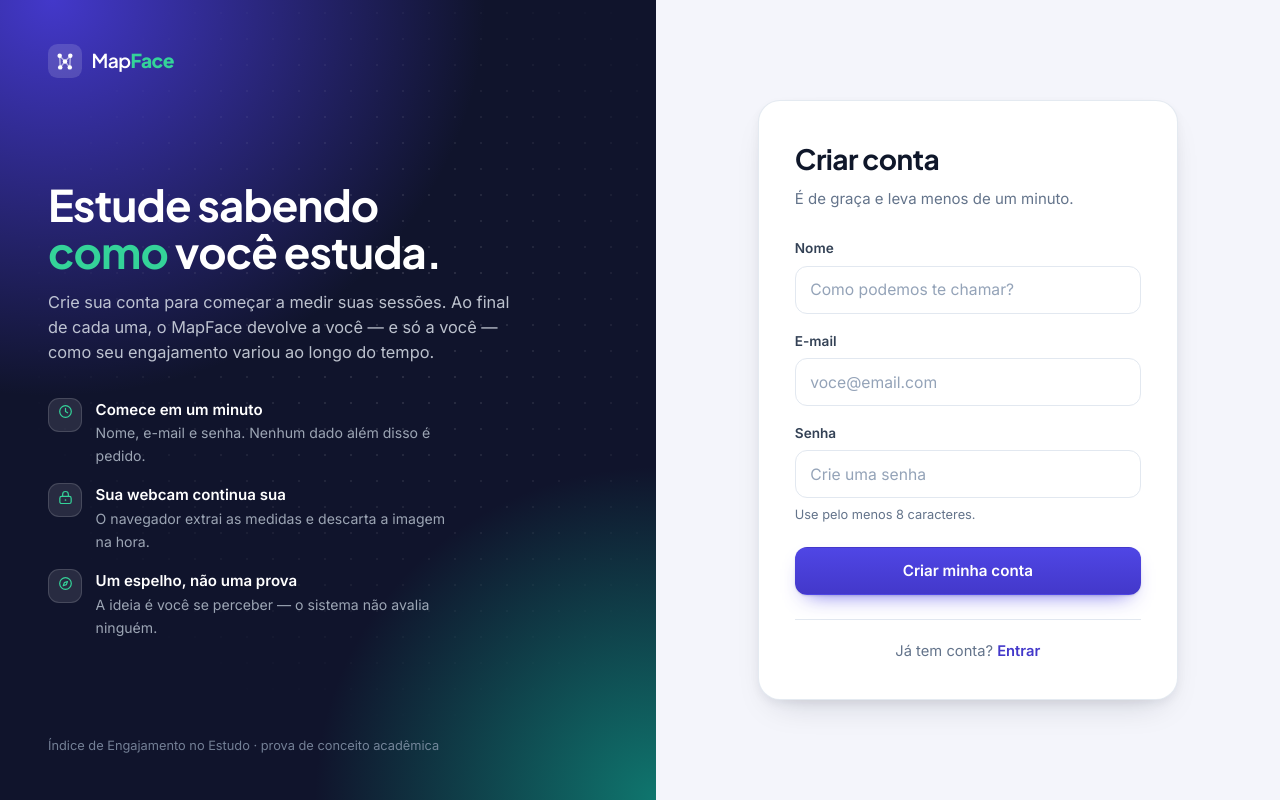
Test case: RegistroComponent › mostra mensagem genérica quando o servidor falha por outro motivo
Type "Ana Souza" into the field labelled "Nome". click: (968, 290)
box: [795,266,1141,314]
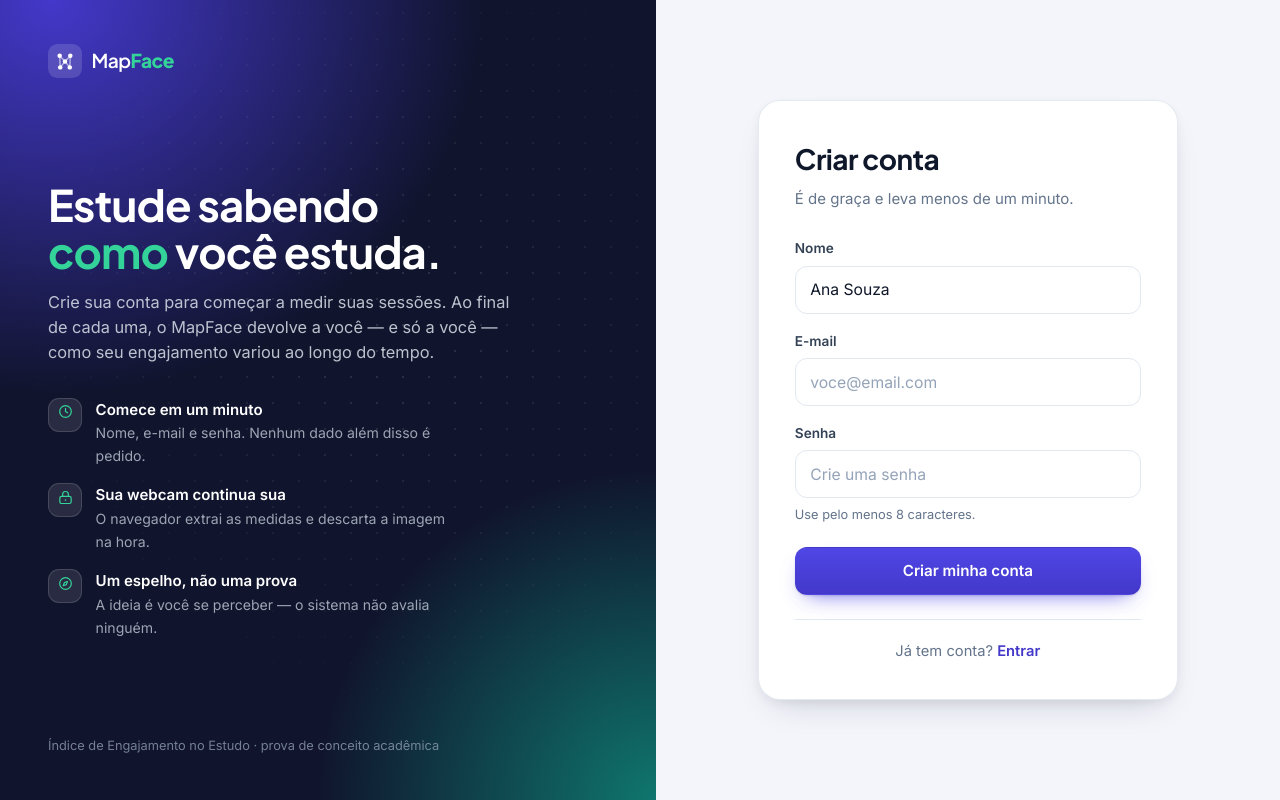
Type "ana@exemplo.com" into the field labelled "E-mail". click: (968, 382)
box: [795,358,1141,406]
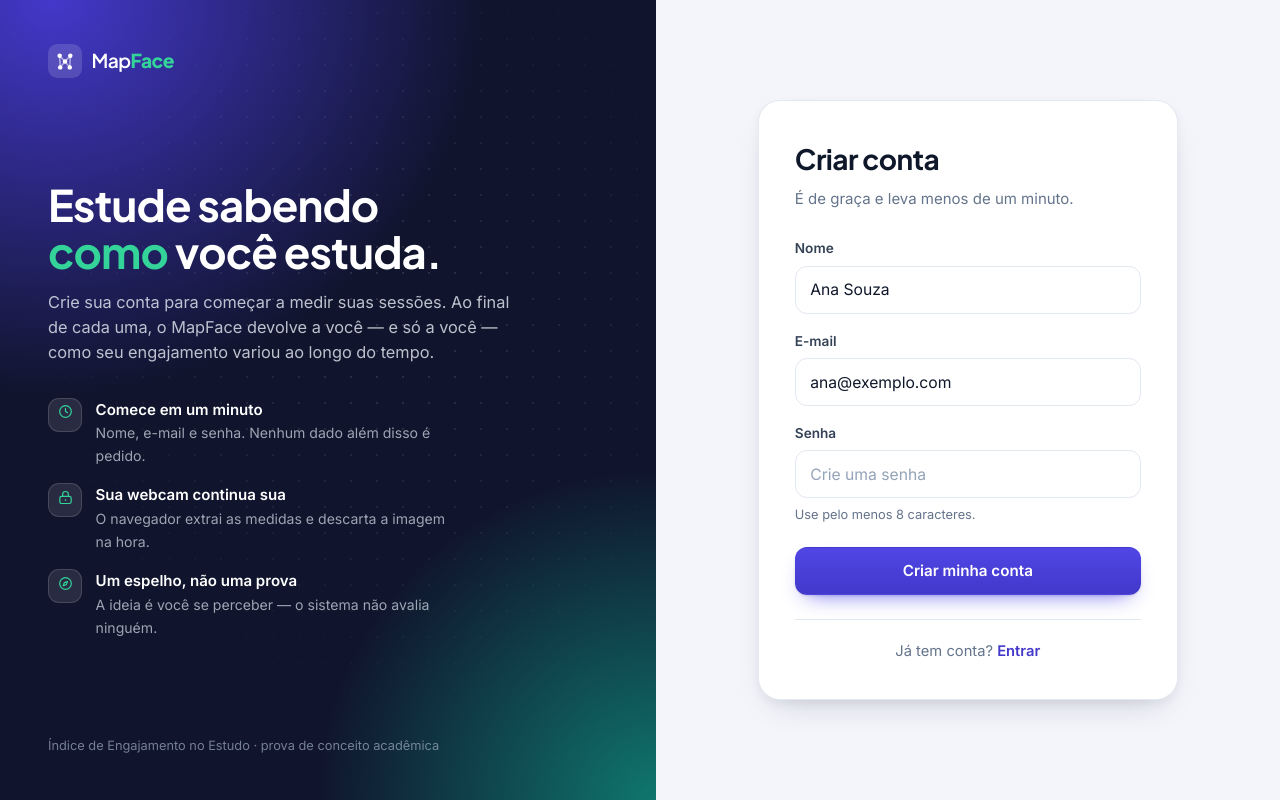
Type "senhaSegura123" into the password field labelled "Senha". click: (968, 474)
box: [795,450,1141,498]
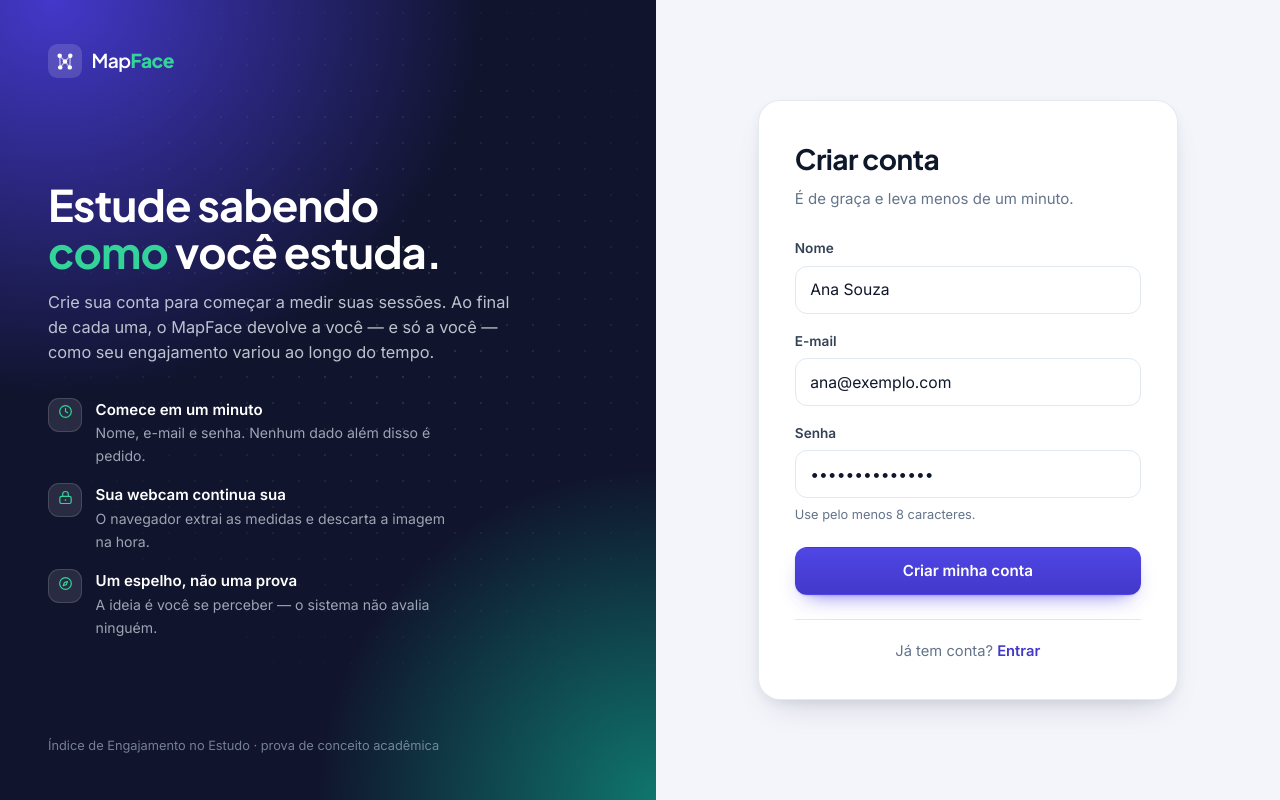
Submit the form, box [795,238,1141,595]
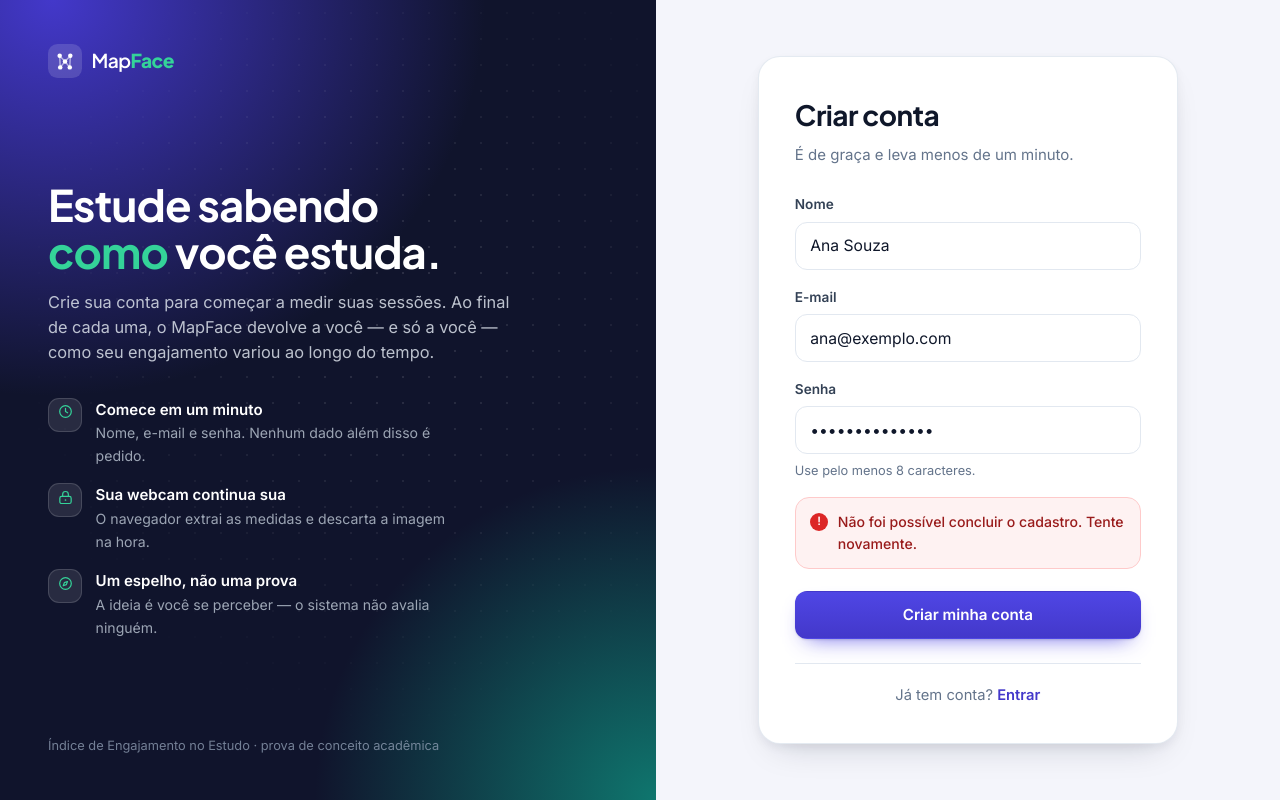
Now the message with class "erro-geral" reads "Não foi possível concluir o cadastro. Tente novamente.", box [838,513,1124,552]
